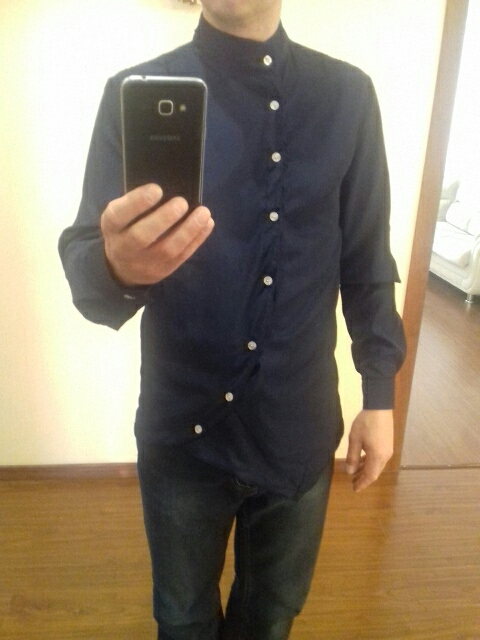shirts: (63, 14, 407, 501)
